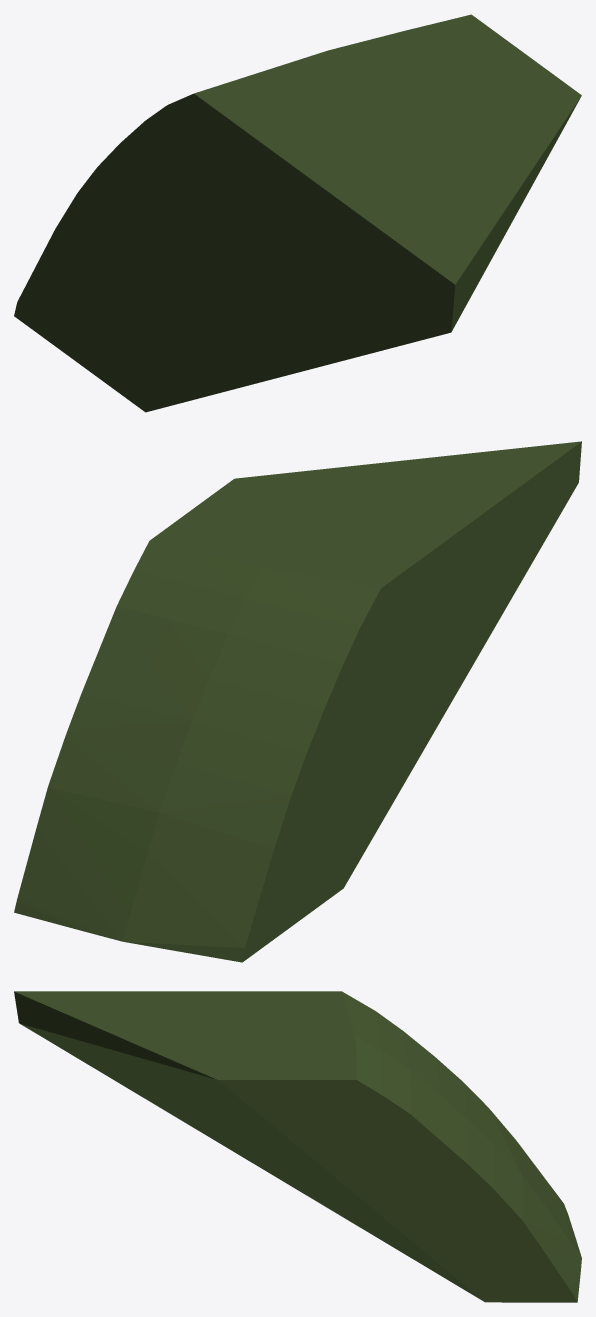
File: right-shoulder-pitch-0_part_63.obj
3 renders of one model, top to bottom at view 1: azimuth 30°, elevation 25°; view 2: azimuth 150°, elevation 25°; view 3: azimuth 270°, elevation 25°, orthographic. The views are drawn at different scales.
Size of the model in its own units: 0.00854 by 0.01 by 0.0231.
